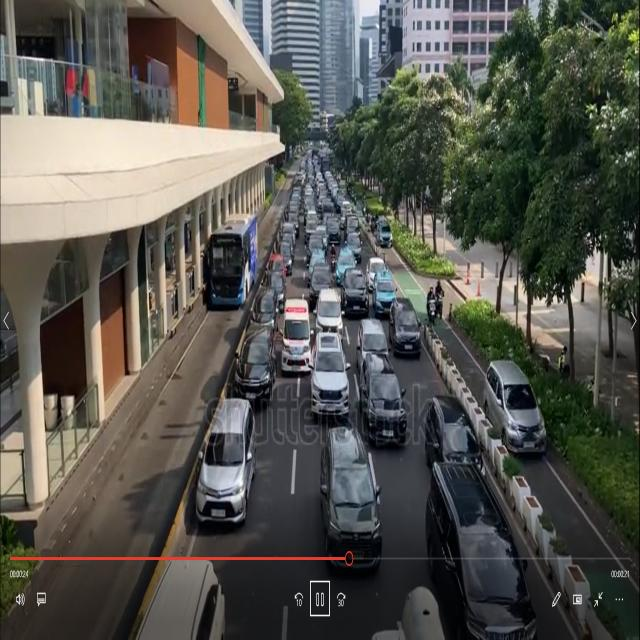Ambulance: (278, 285, 316, 378)
